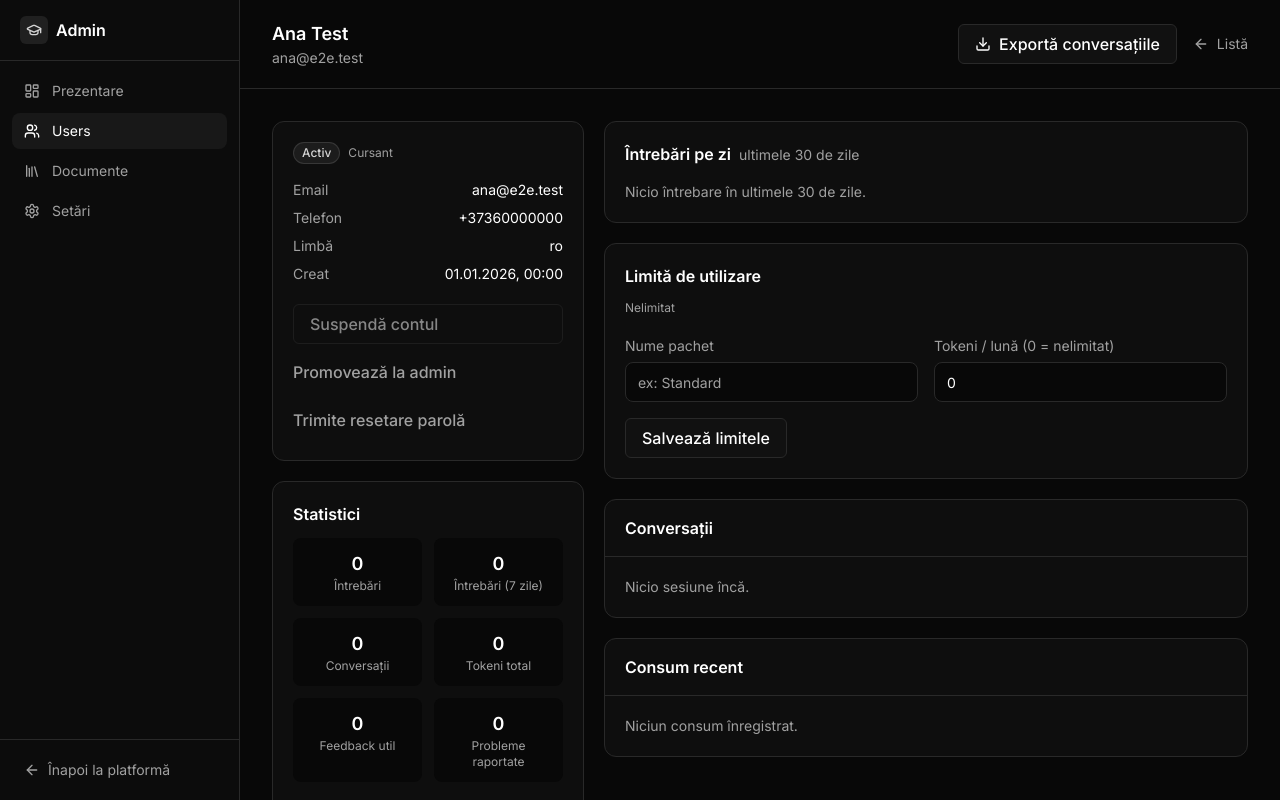
ADMIN-05 User detail › ADMIN-05 action failed (S6): role refused → “A apărut o eroare. Încearcă din nou.” next to “Promovează la admin”
Click the button "Promovează la admin" at (428, 372), box [293,352,563,392]
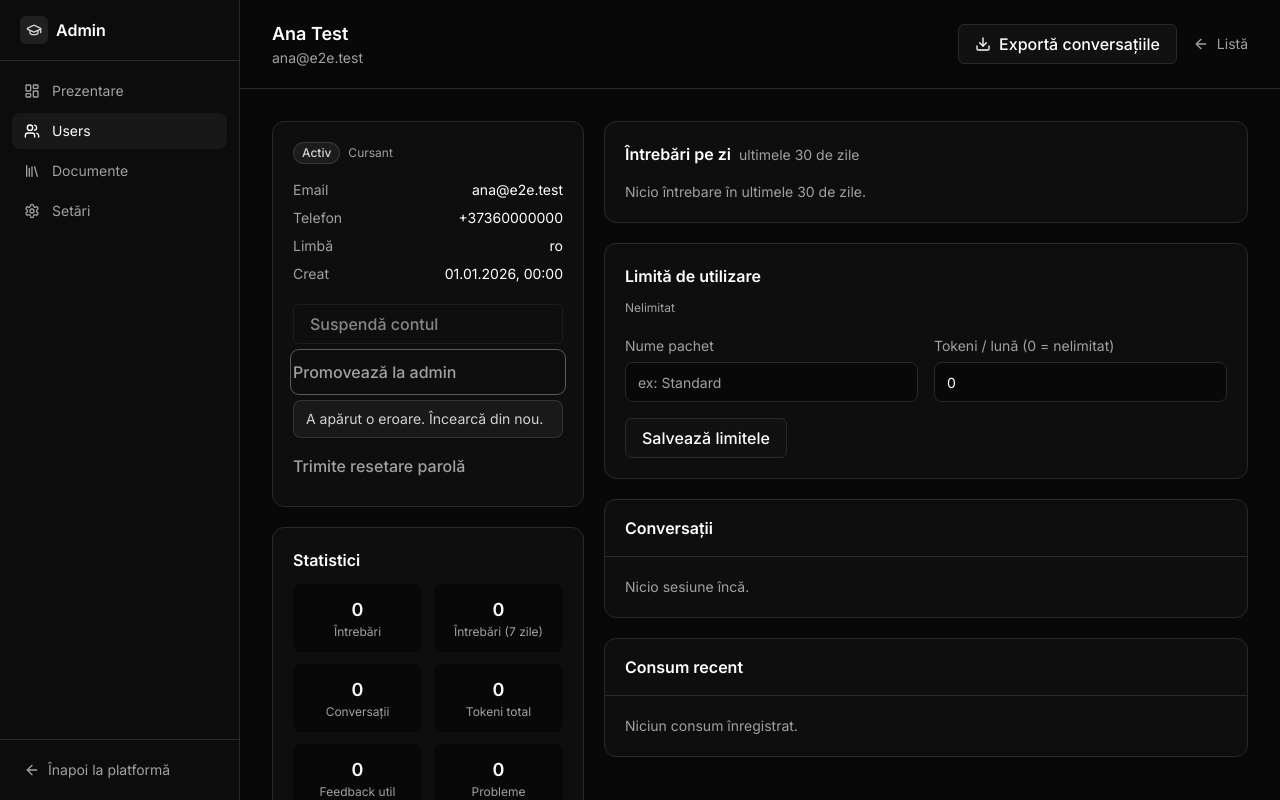
Check: the message reads "A apărut o eroare. Încearcă din nou.", box [306,410,543,427]
